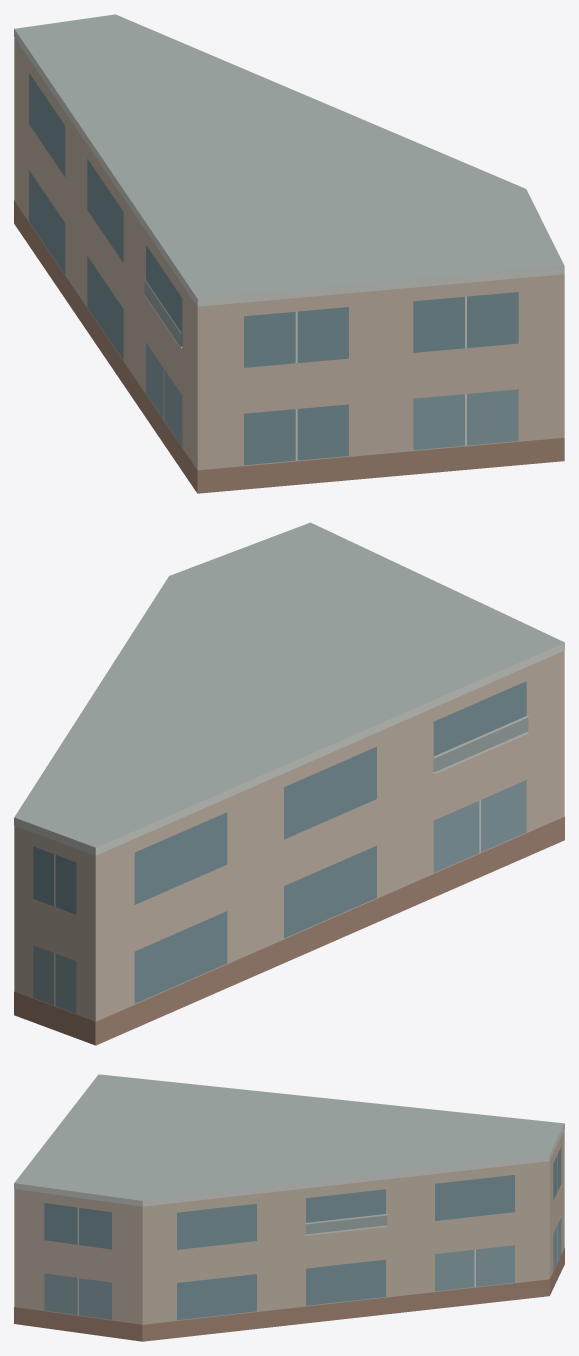
The model's file is survey-upis-32491622.glb.
3 views of the same model, one above another, from view 1: azimuth 30°, elevation 25°; view 2: azimuth 150°, elevation 25°; view 3: azimuth 270°, elevation 25° (orthographic). The views are drawn at different scales.
Visible parts, largest first — view 1: survey-upis-32491622.tmp; view 2: survey-upis-32491622.tmp; view 3: survey-upis-32491622.tmp.
Part boxes in pixels (x1=…): survey-upis-32491622.tmp: x1=14, y1=14, x2=564, y2=493; survey-upis-32491622.tmp: x1=14, y1=522, x2=564, y2=1045; survey-upis-32491622.tmp: x1=14, y1=1074, x2=564, y2=1341.
Size of the model in its own units: 10.15 by 5.25 by 18.63.
